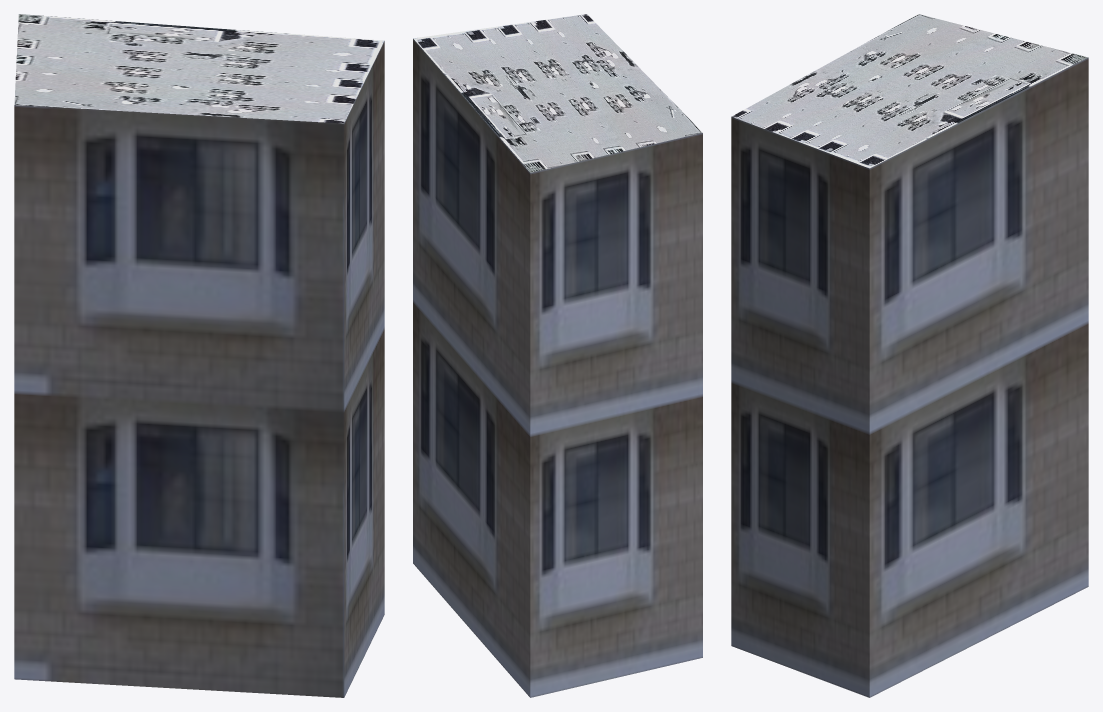
The model's file is ResTex__855.fbx.
The picture shows the model from 3 angles, left to right: view 1: azimuth 30°, elevation 25°; view 2: azimuth 150°, elevation 25°; view 3: azimuth 270°, elevation 25°; orthographic projection. The views are drawn at different scales.
Parts seen in each view (by area): view 1: CityEngineMaterial_3_m, CityEngineMaterial_4_m; view 2: CityEngineMaterial_3_m, CityEngineMaterial_4_m; view 3: CityEngineMaterial_3_m, CityEngineMaterial_4_m.
Boxes of the visible parts, x1=… form: CityEngineMaterial_3_m: x1=14, y1=41, x2=384, y2=697; CityEngineMaterial_4_m: x1=14, y1=14, x2=383, y2=123; CityEngineMaterial_3_m: x1=413, y1=39, x2=702, y2=697; CityEngineMaterial_4_m: x1=413, y1=14, x2=702, y2=172; CityEngineMaterial_3_m: x1=731, y1=57, x2=1088, y2=697; CityEngineMaterial_4_m: x1=732, y1=14, x2=1087, y2=168.
Size of the model in its own units: 3.76 by 6 by 3.67.
2 materials, 2 textured.
